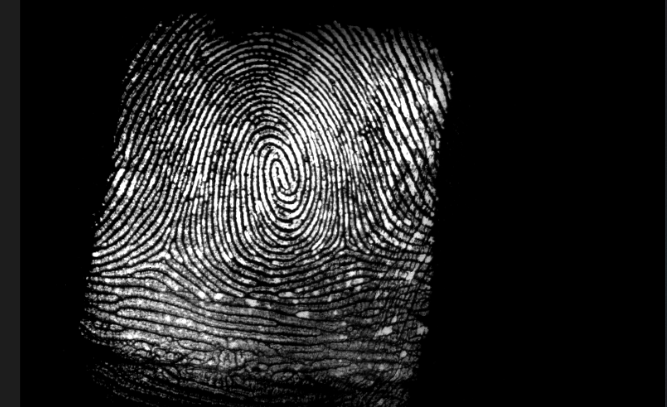deltas: (141, 217, 191, 276), (319, 219, 366, 264)
nucleo: (253, 141, 305, 209)
